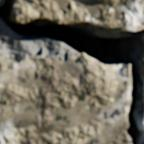brick: (11, 0, 143, 33)
broken_brick: (0, 54, 130, 143), (137, 101, 143, 143)
crack: (0, 0, 143, 143)
